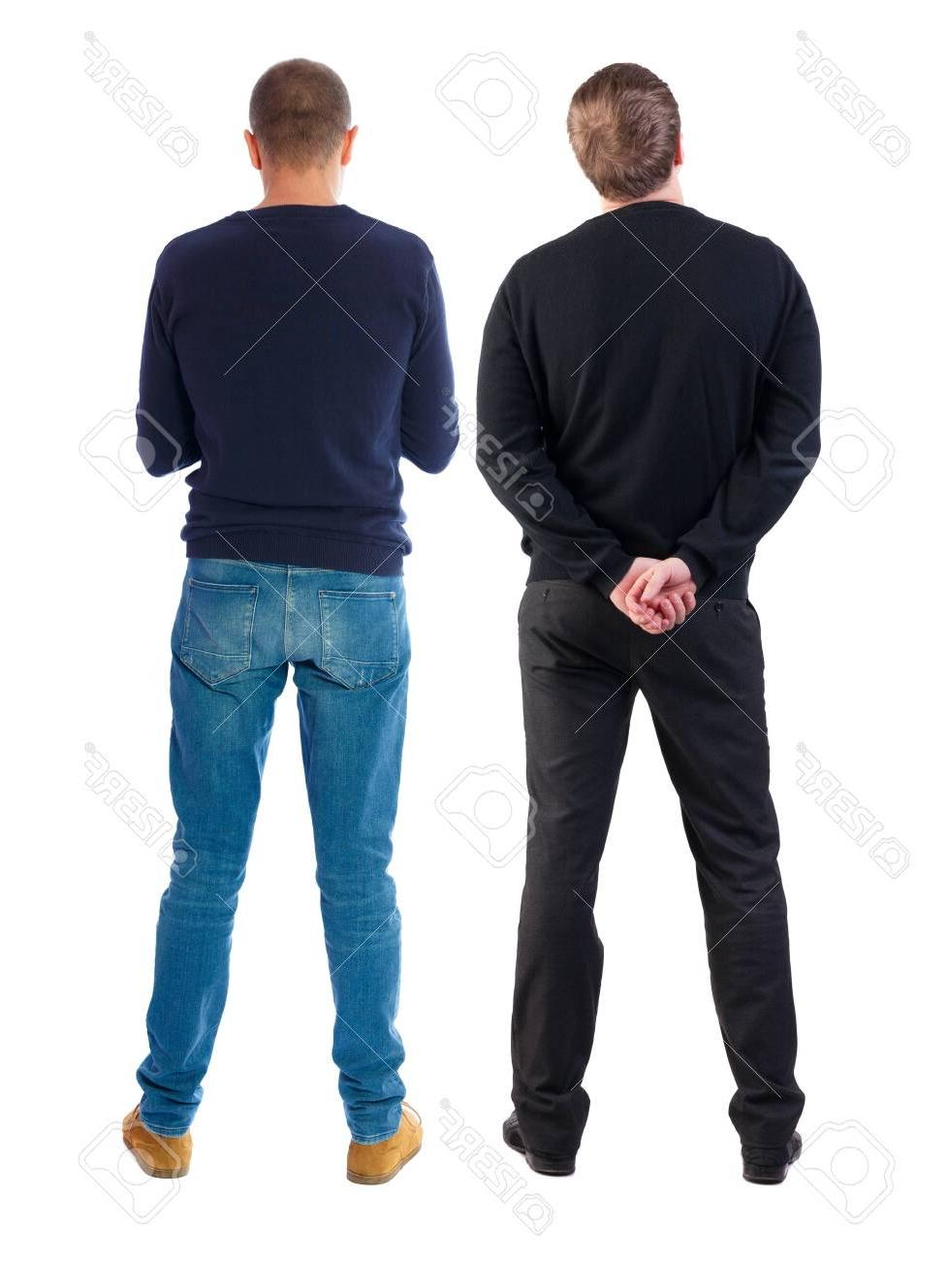sweater: (473, 196, 824, 579), (132, 197, 462, 574)
trousers: (506, 573, 810, 1151), (130, 555, 417, 1152)
